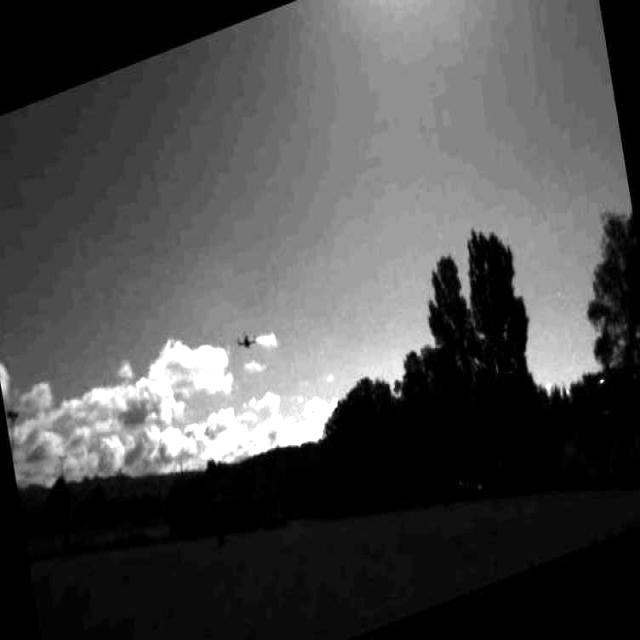drone: (230, 318, 264, 361)
